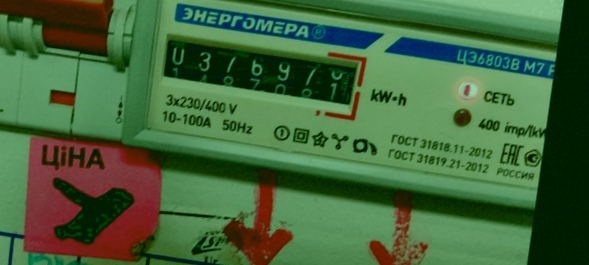0: (170, 43, 188, 67)
1: (328, 80, 340, 103)
3: (198, 50, 213, 72)
6: (249, 53, 267, 78)
7: (224, 50, 241, 75), (303, 62, 320, 86)
9: (276, 59, 293, 83)
screen: (150, 24, 372, 125)
